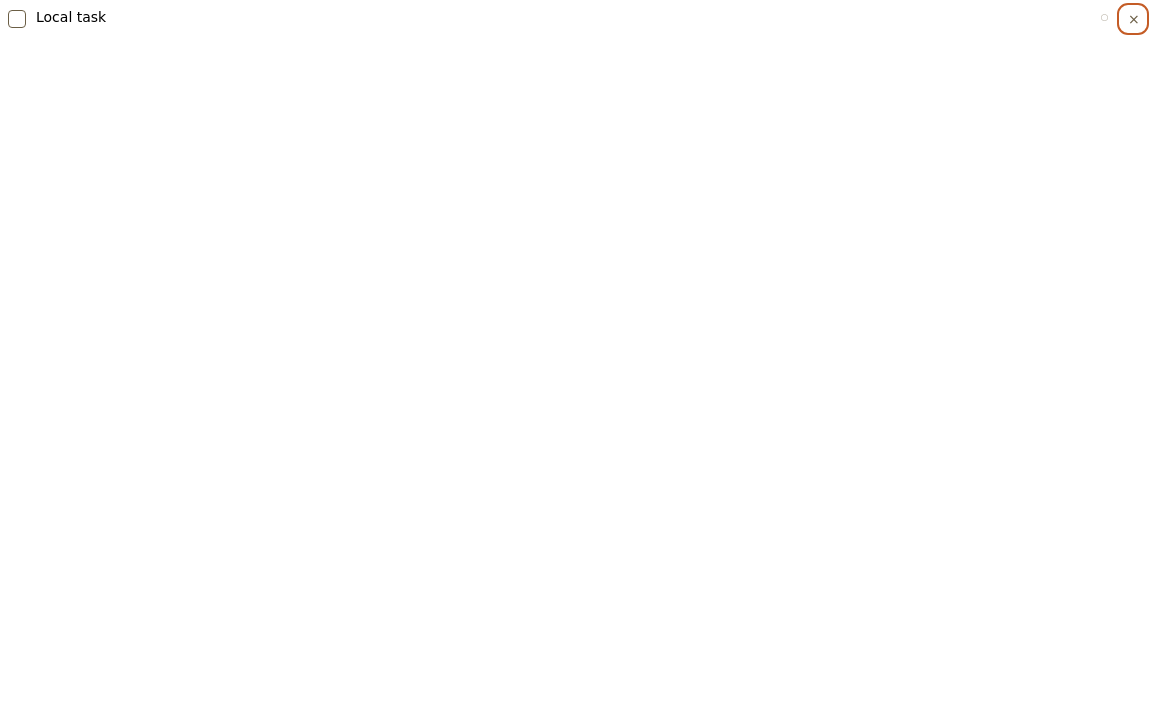
keeps a local task until parent confirmation succeeds and returns focus after Escape or cancel
Later steps or results of the test are not shown.
Click the button with class "task-del": coordinates (1133, 19) [1122,8,1144,30]
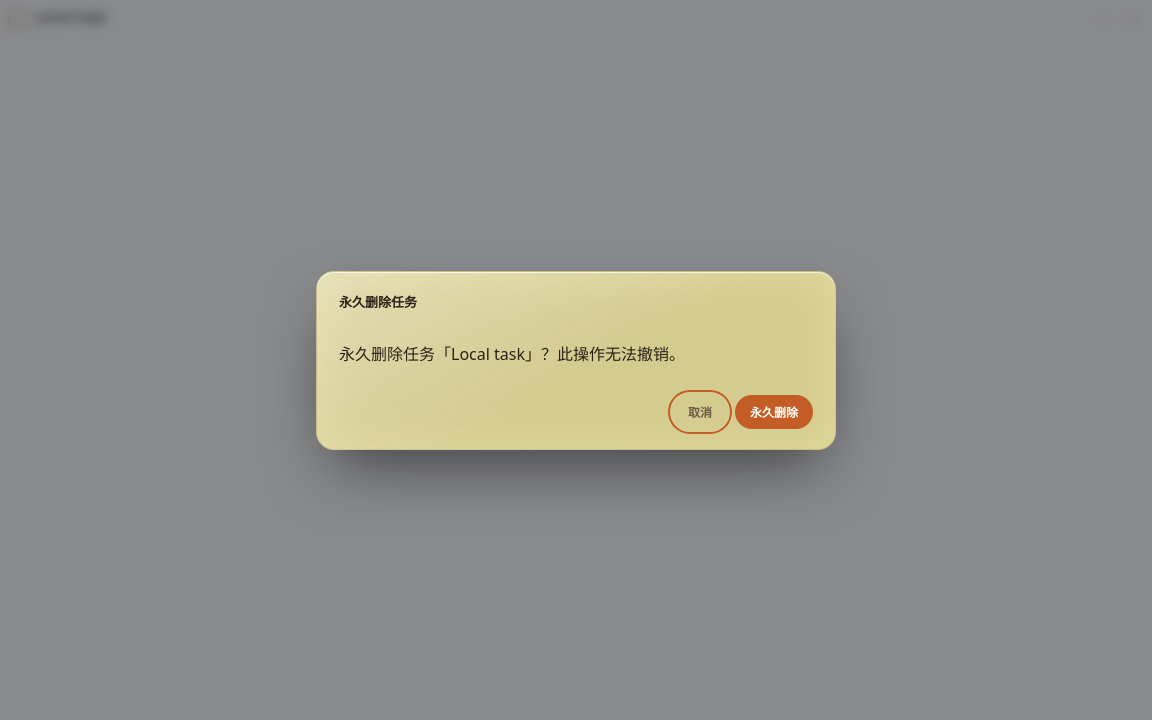
Check: the button "取消" is shown
Press Escape in the button "取消", box [673,394,727,428]
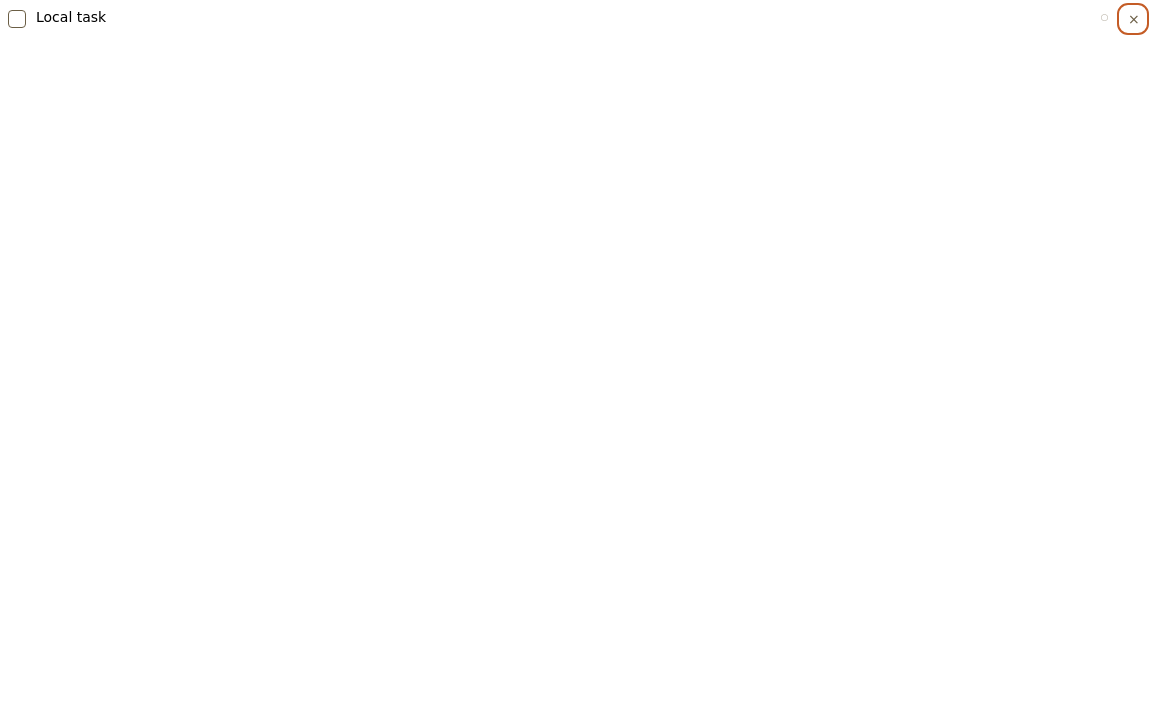
Check: the dialog is gone
Click the button with class "task-del": coordinates (1133, 19) [1122,8,1144,30]
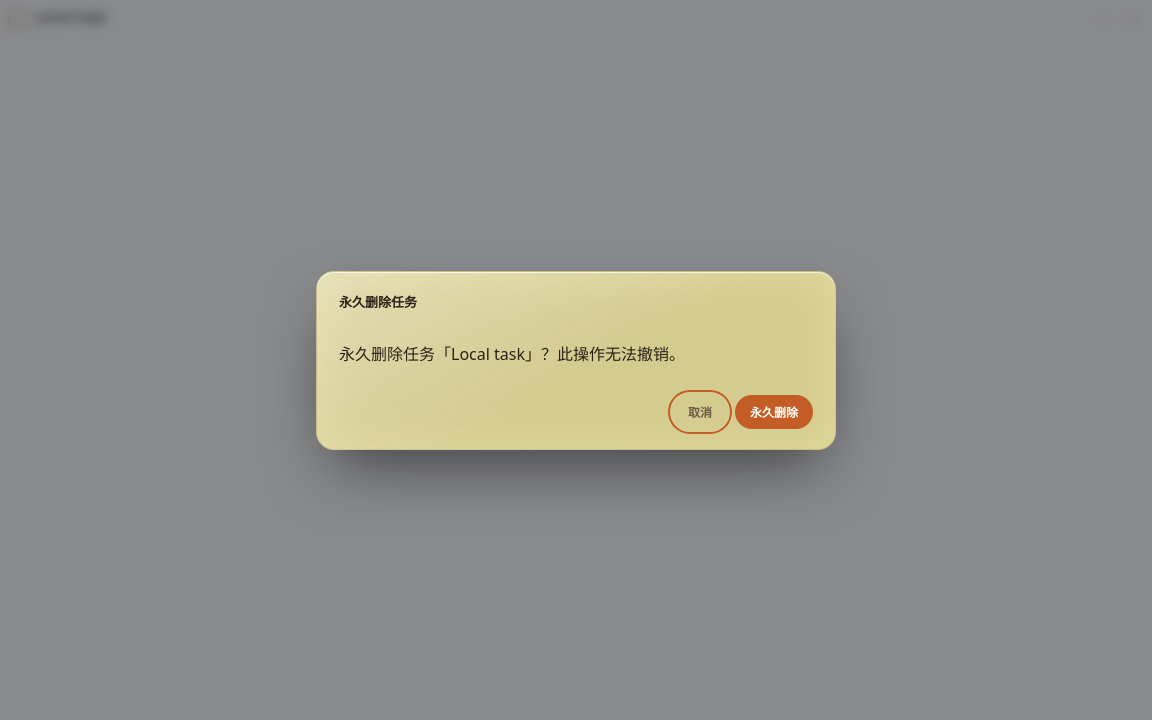
Click the button with class "btn-ghost": coordinates (700, 412) [673,394,727,428]
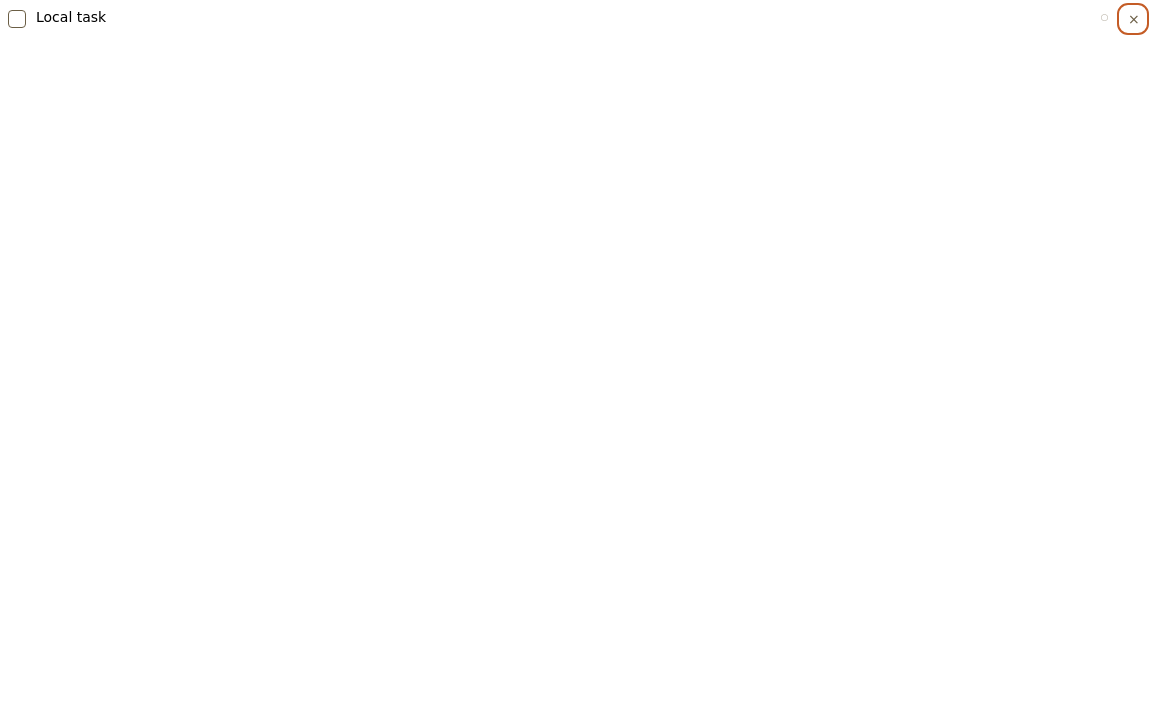
Check: the dialog is gone
